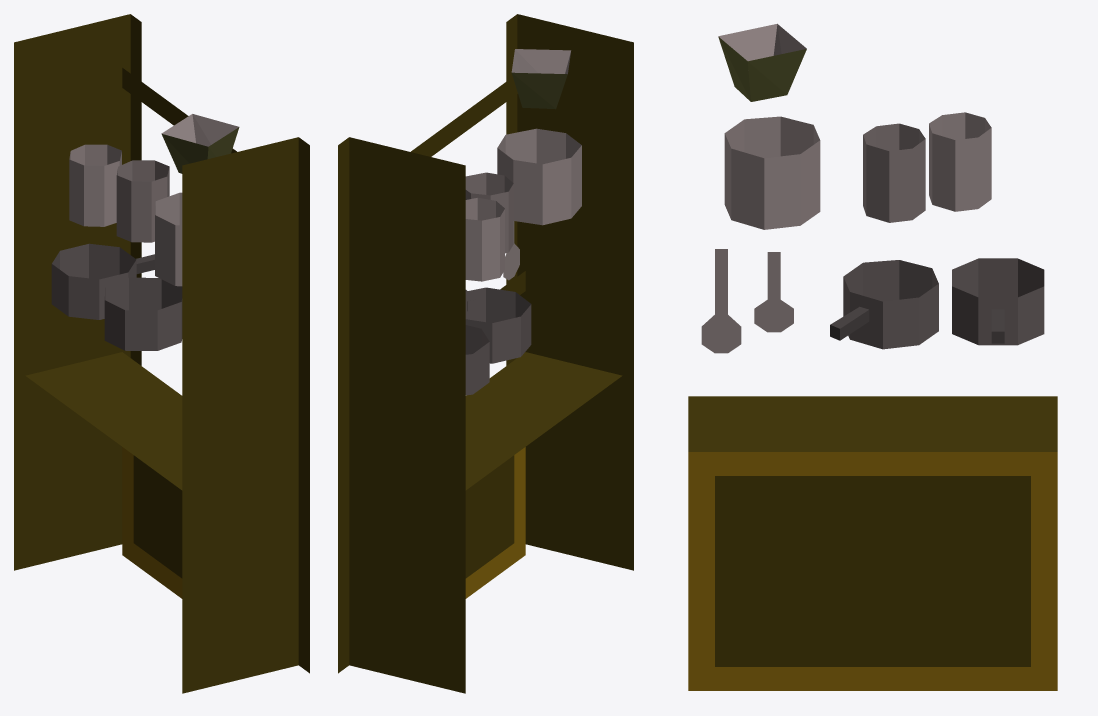
The model's file is obj_cooking_shelves_0.obj.
3 views of the same model, side by side, from view 1: azimuth 30°, elevation 25°; view 2: azimuth 150°, elevation 25°; view 3: azimuth 270°, elevation 25° (orthographic). The views are drawn at different scales.
Size of the model in its own units: 0.375 by 1.62 by 1.
